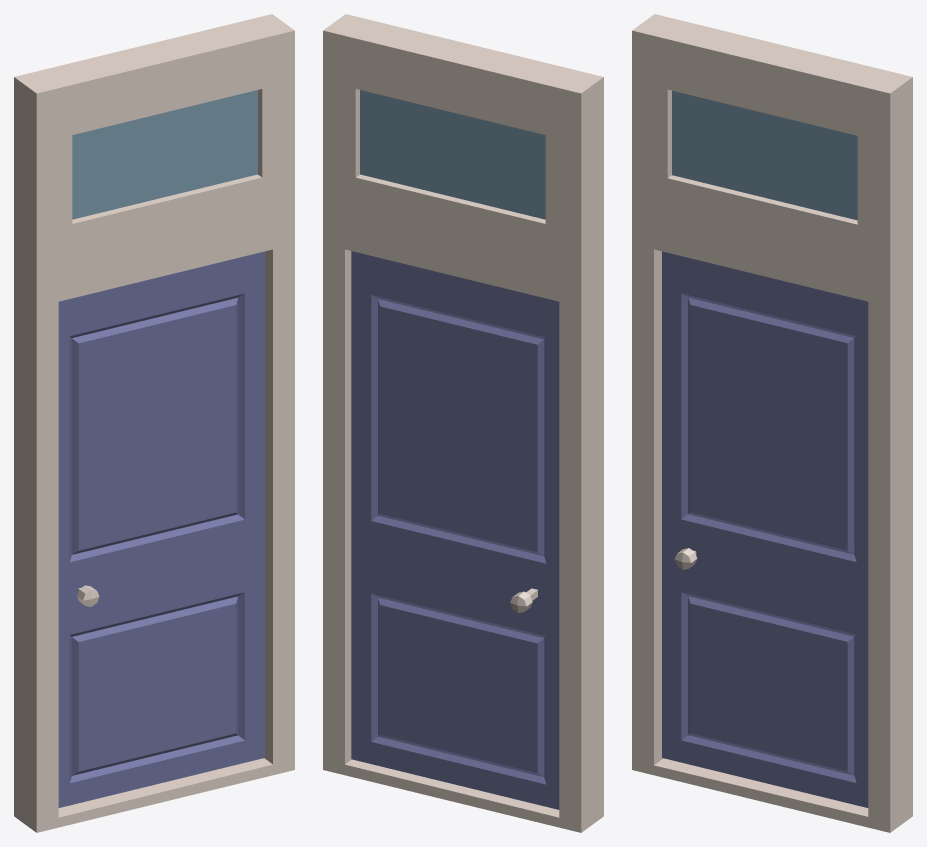
Rendered from Door_10.fbx.
3 renders of one model, left to right at view 1: azimuth 30°, elevation 25°; view 2: azimuth 150°, elevation 25°; view 3: azimuth 330°, elevation 25°, orthographic.
Visible parts, largest first — view 1: Door_10; view 2: Door_10; view 3: Door_10.
Boxes of the visible parts, box(x1,y1,x2,y2) form: Door_10: box(14, 14, 294, 832); Door_10: box(323, 14, 603, 832); Door_10: box(632, 14, 912, 832).
Bounding box in the file's own units: 164 × 40.62 × 450.
